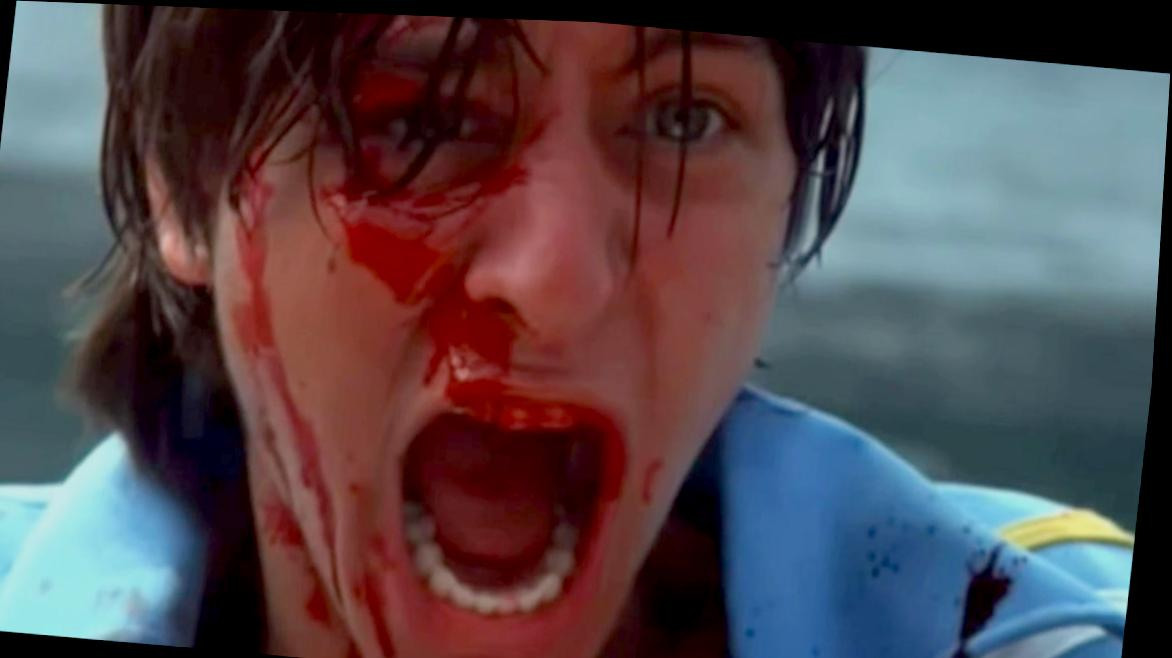Fire: (153, 12, 737, 658), (859, 467, 1059, 658)
